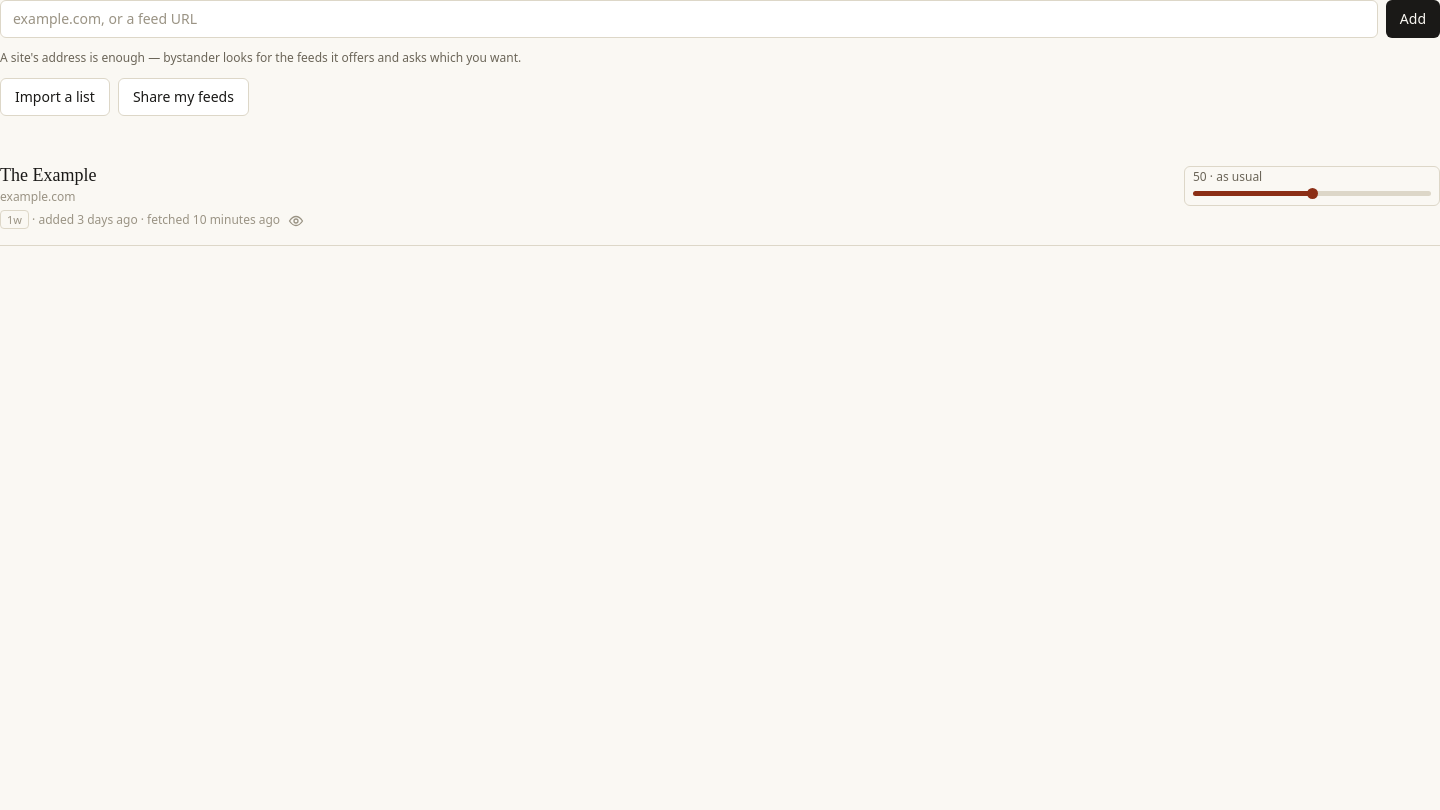
Test: FeedsPage › previews a feed it already follows, with nothing to add
What coordinates should you click on to do the following:
click the button named "Preview The Example"
I would click on:
 (296, 221)
Its box is [288,213,304,229].
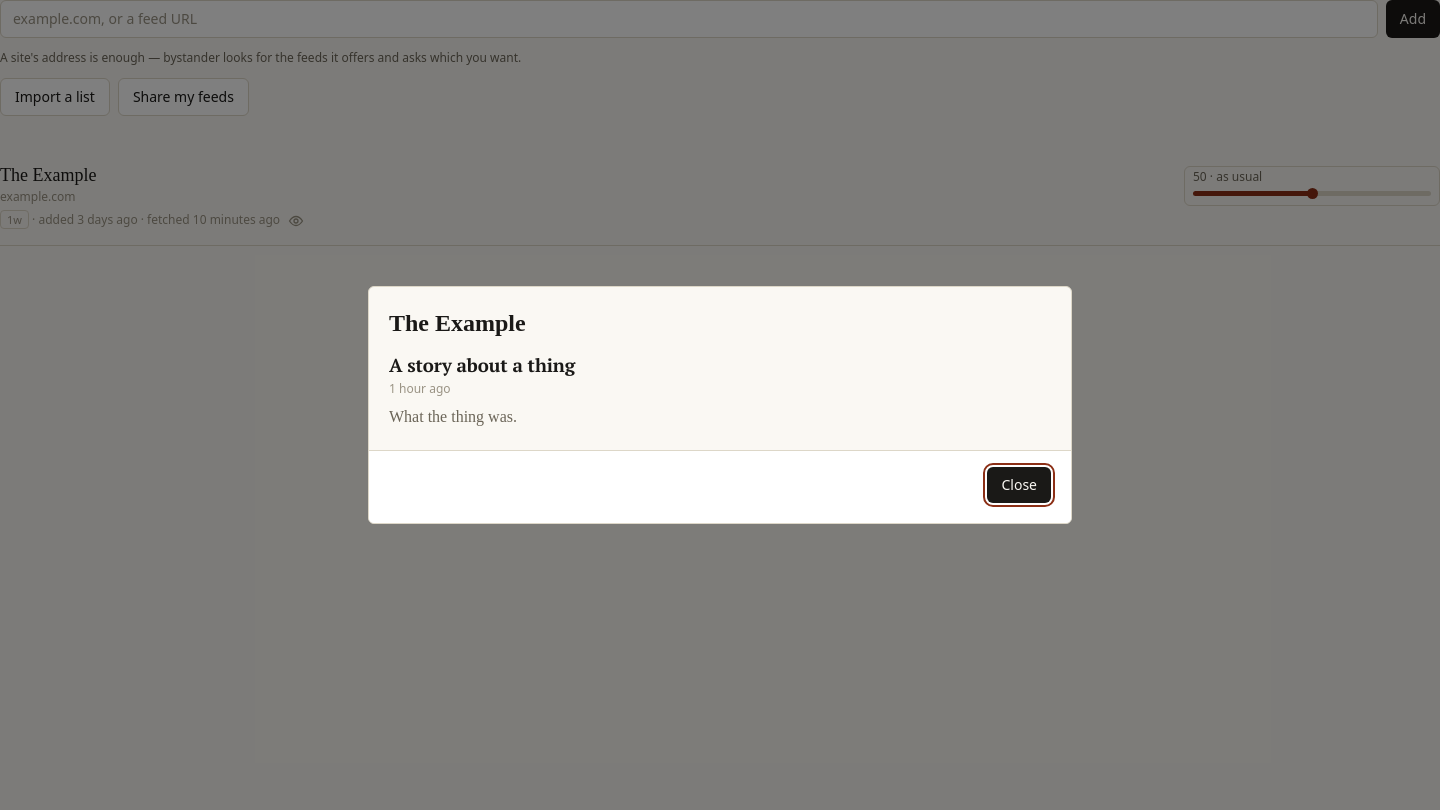
Expected: the button "Close" is shown, [988,466,1051,502]
